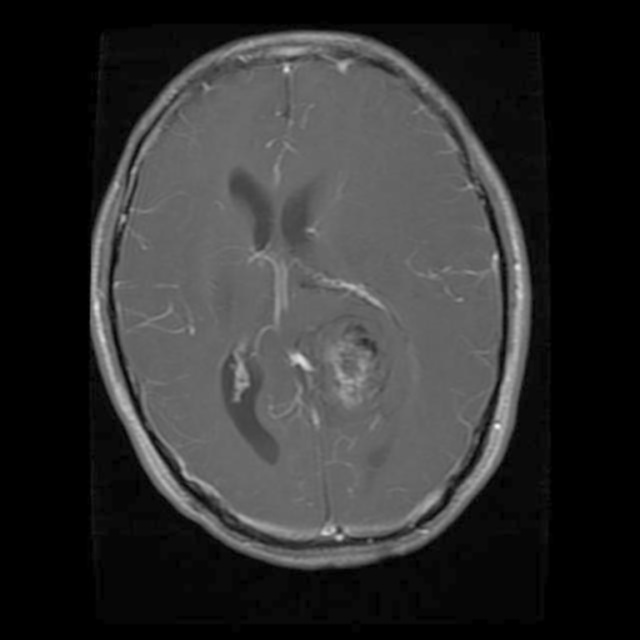pituitary tumor: (324, 320, 380, 410)
